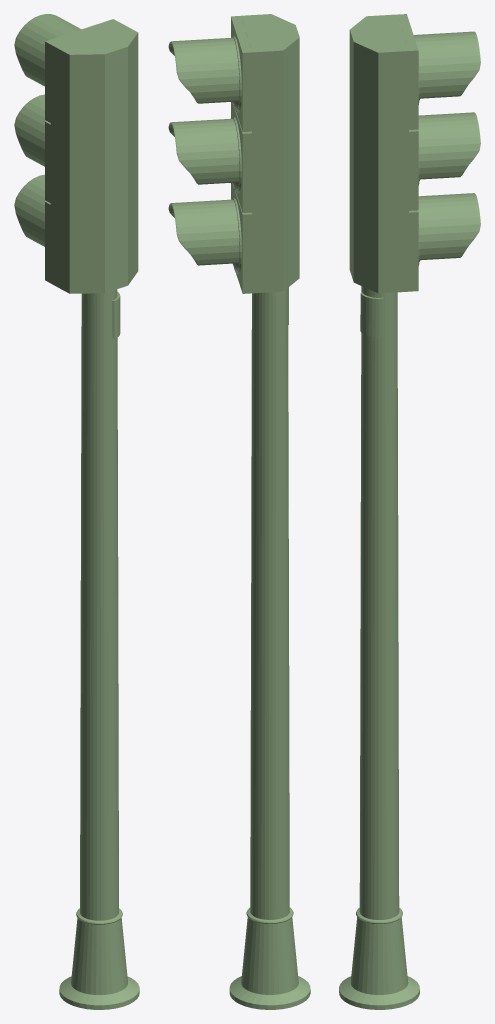
File: w_highway_traffic_signals.glb
3 views of the same model, side by side, from view 1: azimuth 90°, elevation 25°; view 2: azimuth 150°, elevation 25°; view 3: azimuth 330°, elevation 25° (orthographic).
Visible parts, largest first — view 1: semafor; view 2: semafor; view 3: semafor.
Part boxes in pixels (x1,y1,x2,y2): semafor: (14, 14, 139, 1009); semafor: (168, 14, 310, 1009); semafor: (339, 14, 480, 1009).
Bounding box in the file's own units: 0.3754 × 2.89 × 0.3449.
4 materials, 3 textured.
